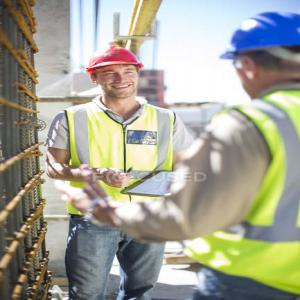blue: (229, 13, 300, 92)
red: (89, 45, 142, 100)
